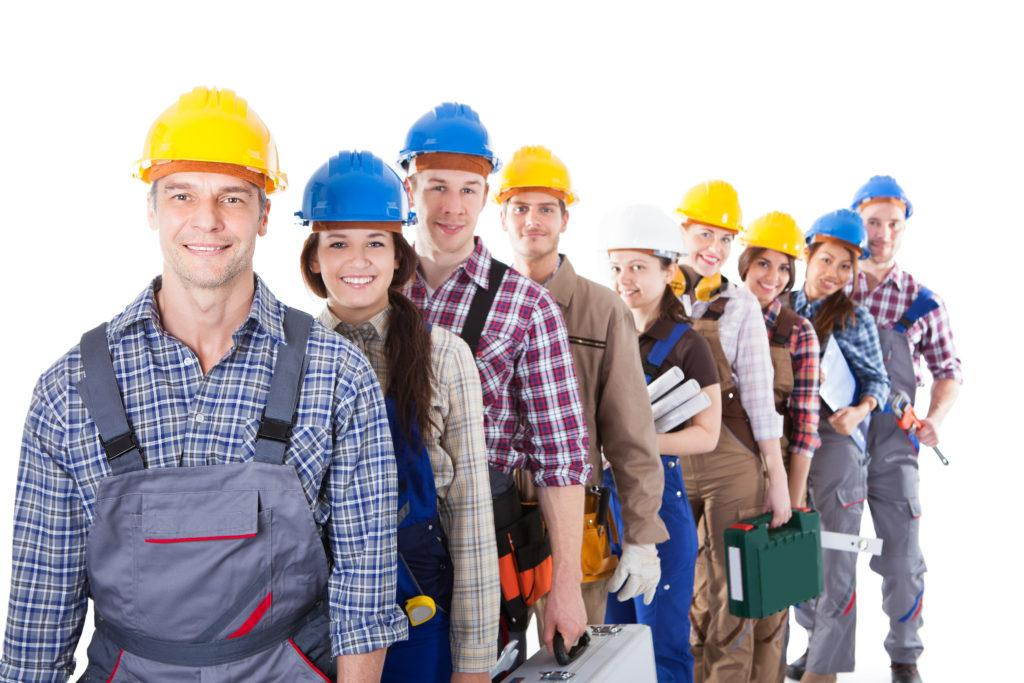helmet: (132, 87, 289, 191), (296, 151, 417, 229), (397, 102, 500, 173), (496, 148, 580, 207), (600, 206, 689, 260), (679, 179, 747, 238), (744, 211, 809, 261), (851, 174, 918, 221), (806, 210, 870, 259)
